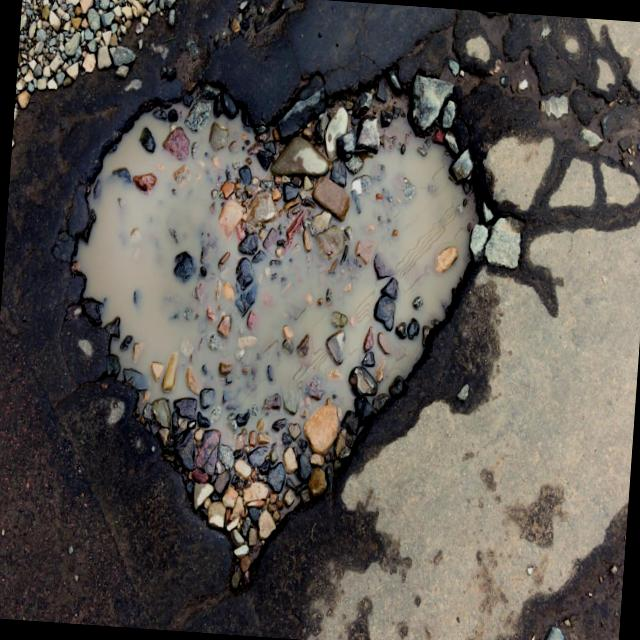bad-road: (46, 39, 502, 612)
